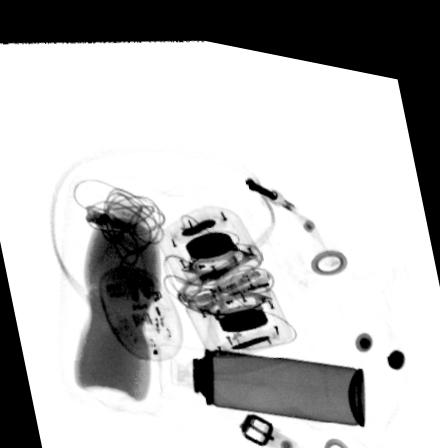Sprayer: (154, 334, 365, 412)
